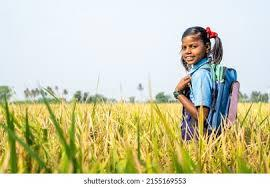Human: (170, 21, 230, 140)
